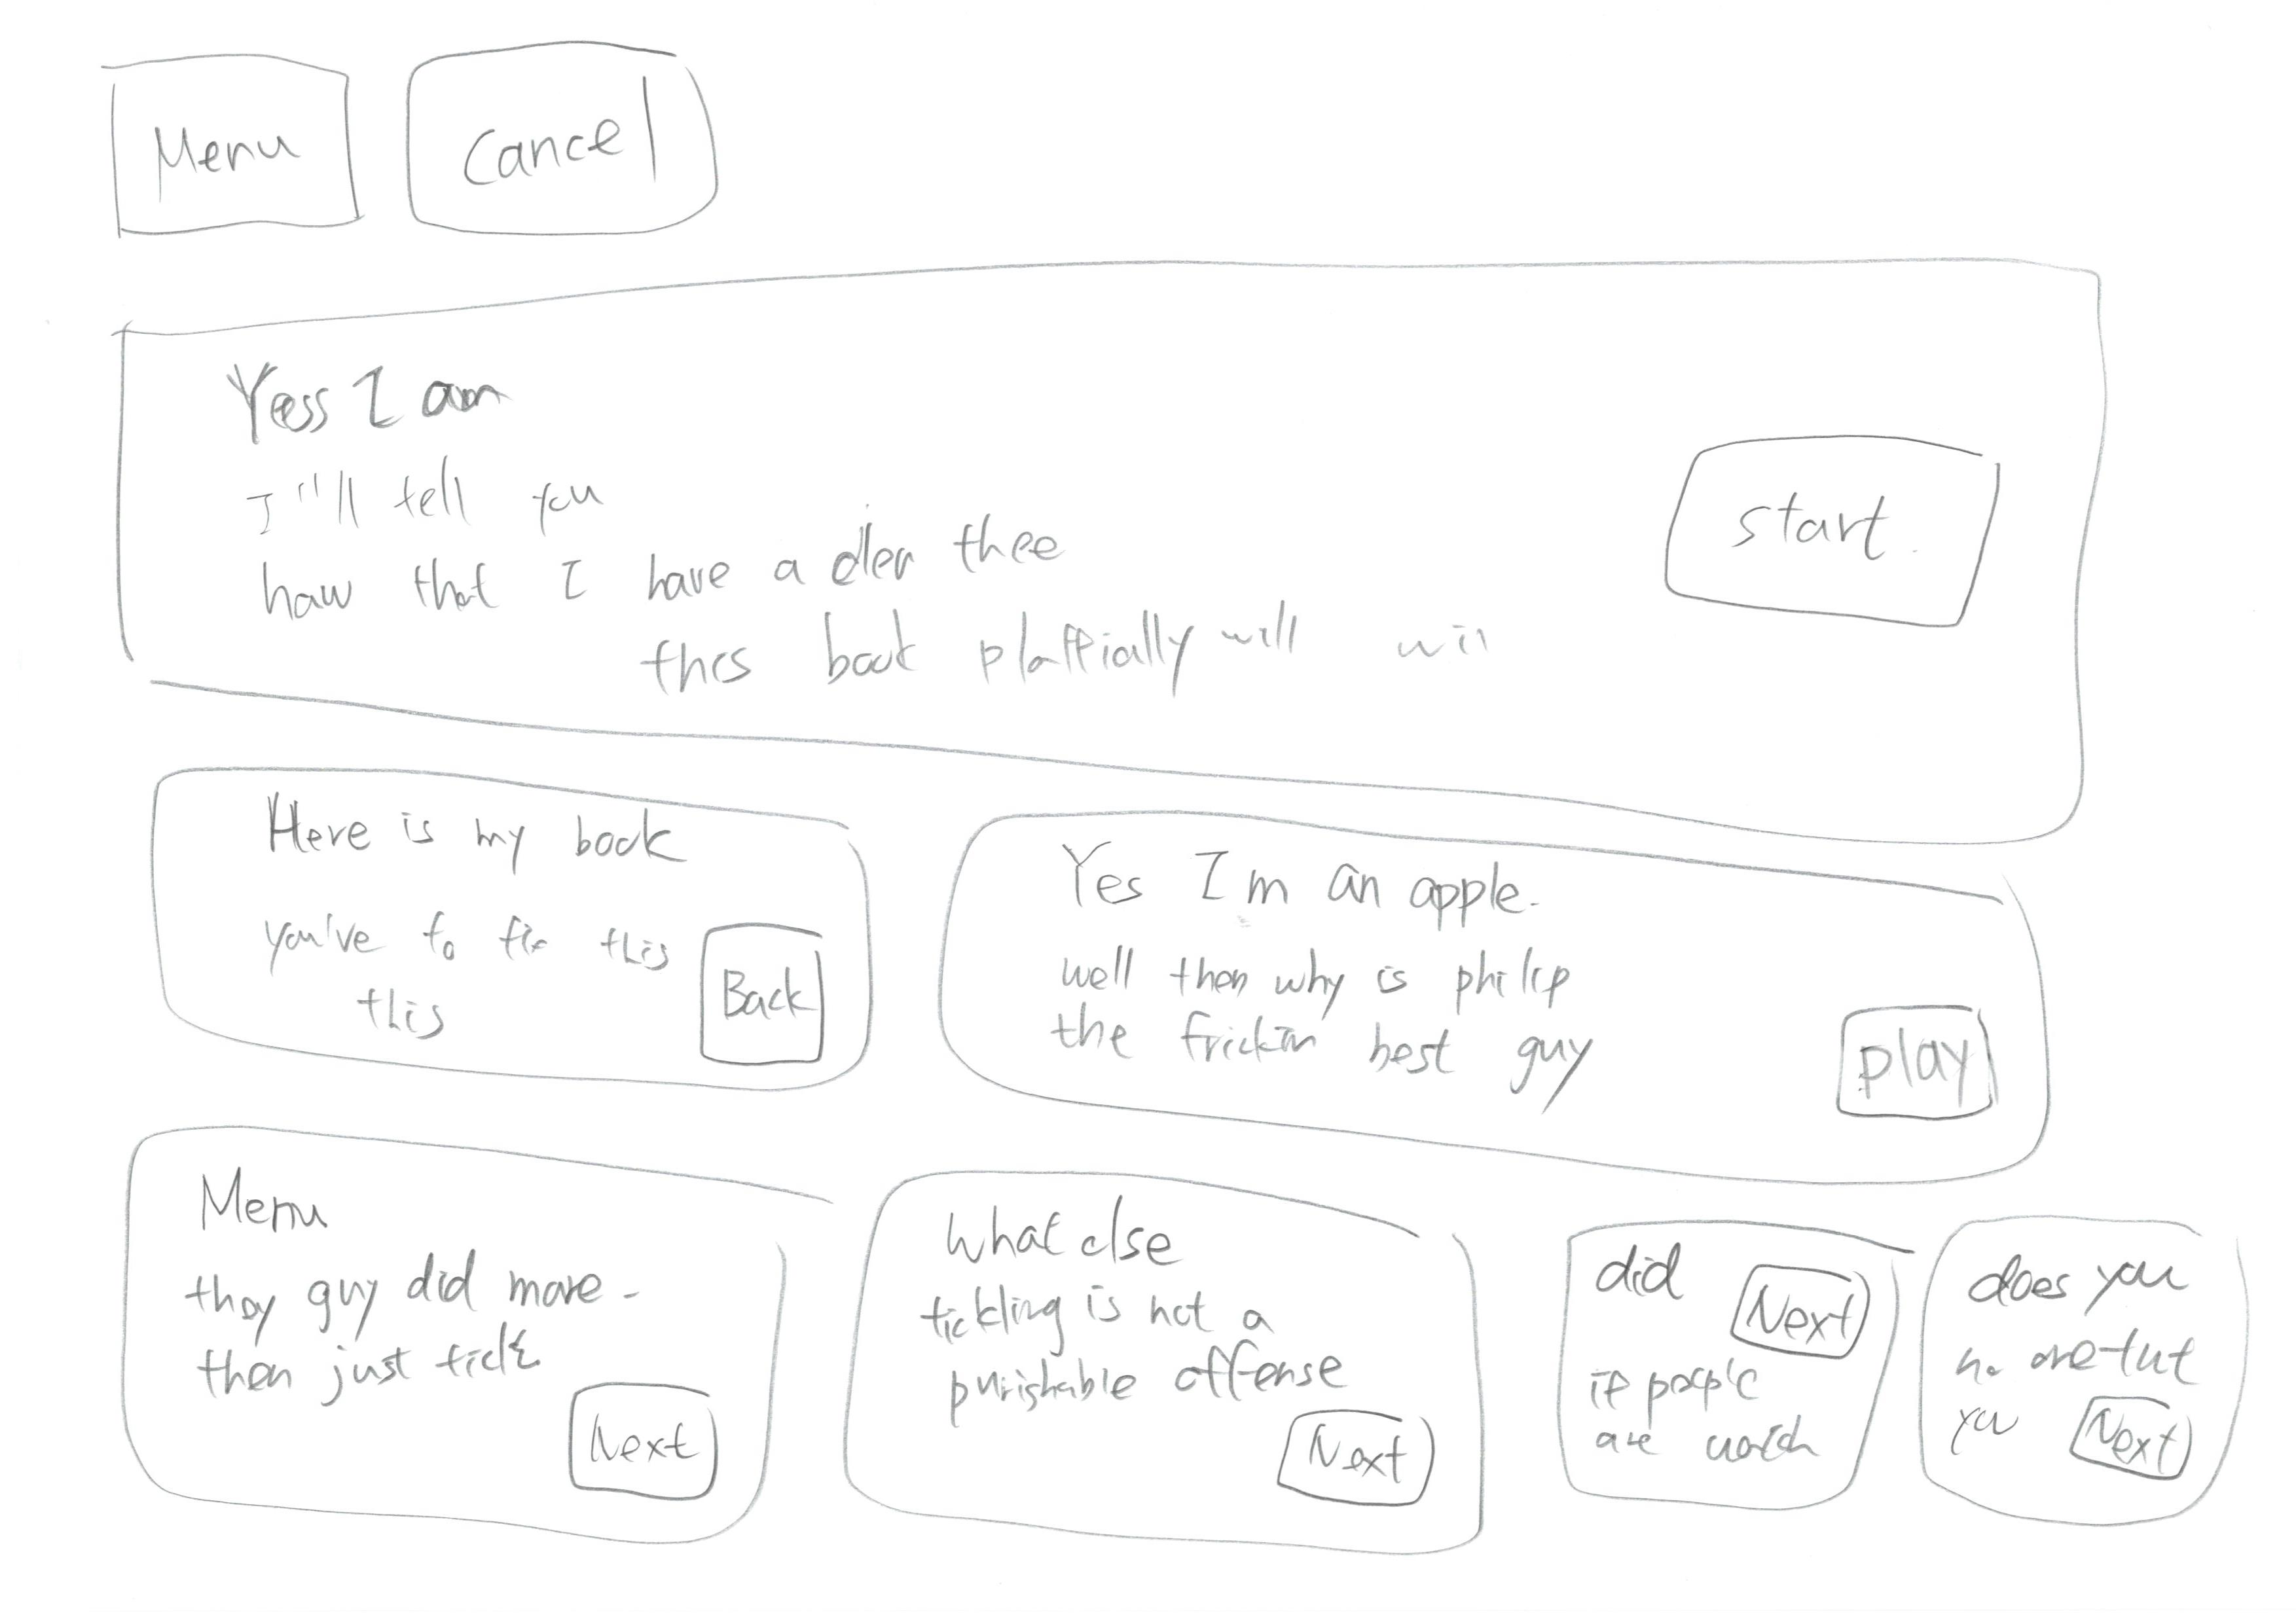back: (654, 895, 844, 1081)
cancel: (371, 7, 730, 253)
double: (883, 761, 2154, 1207), (74, 712, 914, 1137)
menu: (67, 26, 383, 271)
next: (549, 1373, 772, 1520), (1246, 1385, 1452, 1513), (1711, 1255, 1897, 1373), (2052, 1383, 2220, 1501)
play: (1763, 990, 2004, 1144)
quadruple: (63, 1081, 858, 1591), (810, 1142, 1524, 1619), (1508, 1172, 1948, 1591), (1890, 1190, 2296, 1562)
row: (26, 236, 2296, 852), (5, 680, 2296, 1190), (35, 1088, 2296, 1580), (7, 2, 2296, 279)
single: (44, 239, 2252, 866)
small-title: (250, 777, 693, 882), (207, 330, 515, 476), (1034, 838, 1529, 919), (934, 1195, 1215, 1280), (183, 1167, 353, 1264), (1579, 1239, 1695, 1301)
start: (1630, 410, 2059, 663)
text: (218, 471, 1528, 707), (1039, 919, 1624, 1102), (167, 1246, 652, 1396), (914, 1281, 1373, 1415), (253, 886, 679, 1023), (1596, 1350, 1813, 1489), (1960, 1229, 2203, 1313), (1939, 1329, 2212, 1392)
